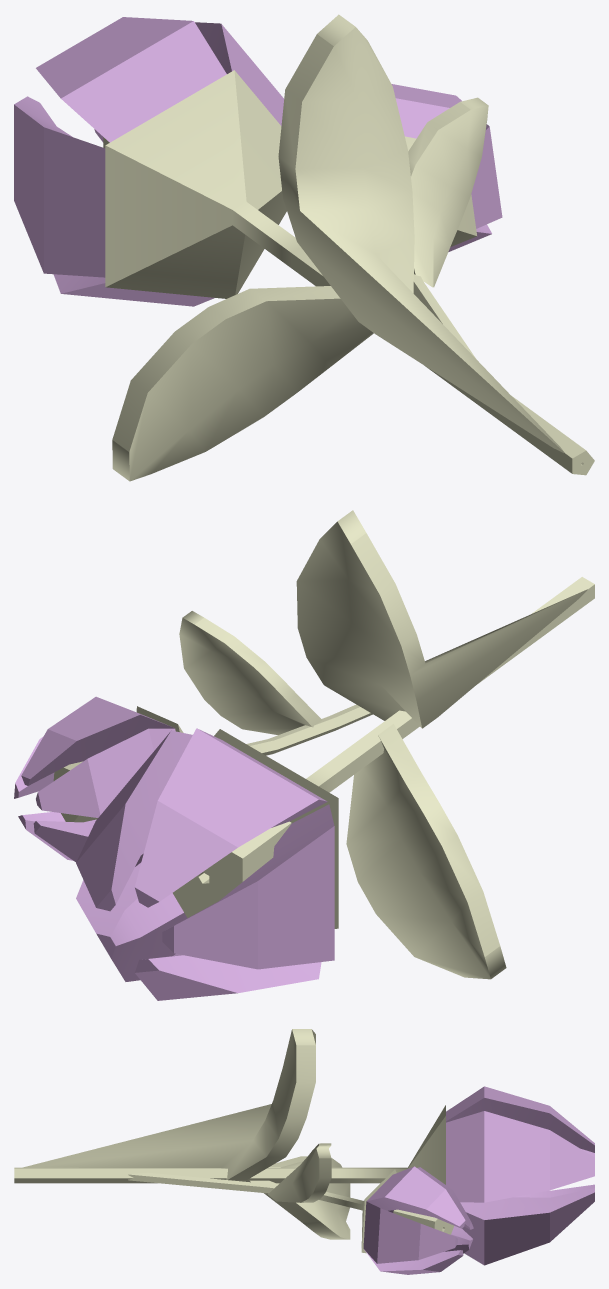
Rendered from Flower_01.fbx.
3 views of the same model, one above another, from view 1: azimuth 30°, elevation 25°; view 2: azimuth 150°, elevation 25°; view 3: azimuth 270°, elevation 25° (orthographic). The views are drawn at different scales.
Parts seen in each view (by area): view 1: pCube1; view 2: pCube1; view 3: pCube1.
Boxes of the visible parts, x1,y1,x2,y2 form: pCube1: (14,14,594,481); pCube1: (14,510,594,1000); pCube1: (14,1029,594,1274).
Size of the model in its own units: 480 by 456 by 964.
